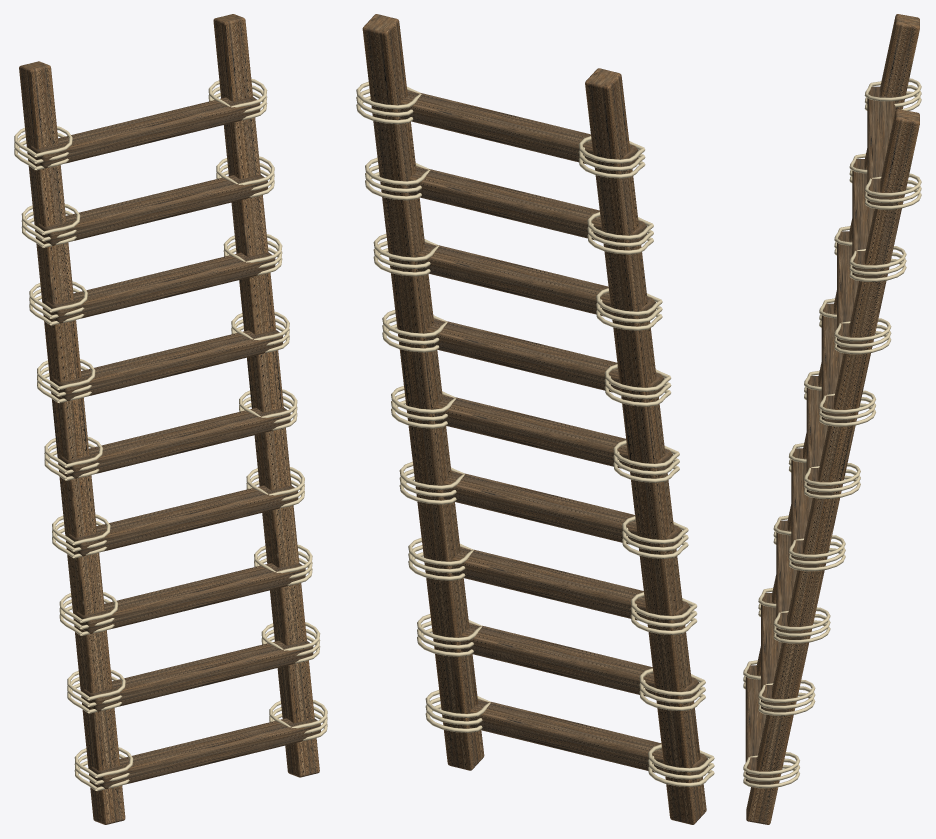
Rendered from ladder_2m.glb.
3 views of the same model, side by side, from view 1: azimuth 30°, elevation 25°; view 2: azimuth 150°, elevation 25°; view 3: azimuth 270°, elevation 25° (orthographic). The views are drawn at different scales.
Parts seen in each view (by area): view 1: ladder_2m_mesh; view 2: ladder_2m_mesh; view 3: ladder_2m_mesh.
Part boxes in pixels (bbox=[...]): ladder_2m_mesh: bbox=[14, 14, 327, 824]; ladder_2m_mesh: bbox=[356, 14, 714, 824]; ladder_2m_mesh: bbox=[743, 14, 921, 824].
Bounding box in the file's own units: 0.8998 × 2.49 × 0.571.
Materials: 3 (2 with a texture image).
